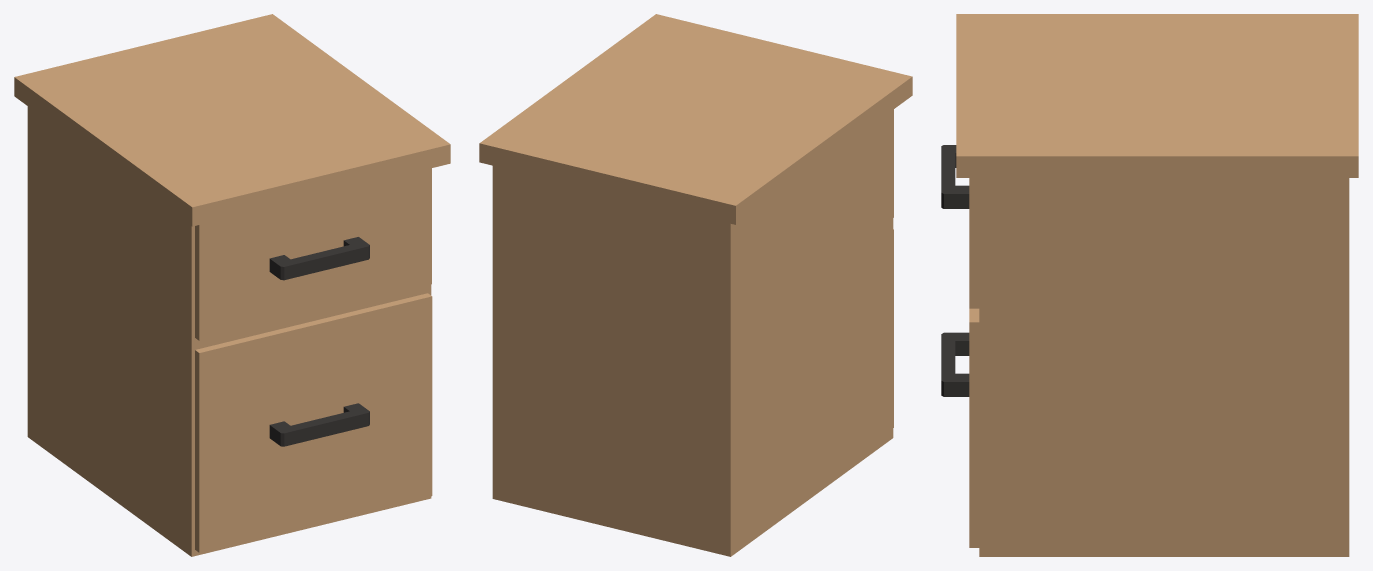
File: drawer.FBX
3 views of the same model, side by side, from view 1: azimuth 30°, elevation 25°; view 2: azimuth 150°, elevation 25°; view 3: azimuth 270°, elevation 25° (orthographic). The views are drawn at different scales.
Visible parts, largest first — view 1: drawer, drawer02, drawer01; view 2: drawer; view 3: drawer, drawer02, drawer01.
Boxes of the visible parts, <box> form: drawer: <box>14,14,450,556</box>; drawer02: <box>195,293,432,552</box>; drawer01: <box>195,168,431,340</box>; drawer: <box>479,14,912,556</box>; drawer: <box>956,14,1358,556</box>; drawer02: <box>941,308,979,547</box>; drawer01: <box>941,145,979,308</box>.
Size of the model in its own units: 51.08 by 67.86 by 63.28.
1 material, 1 textured.
